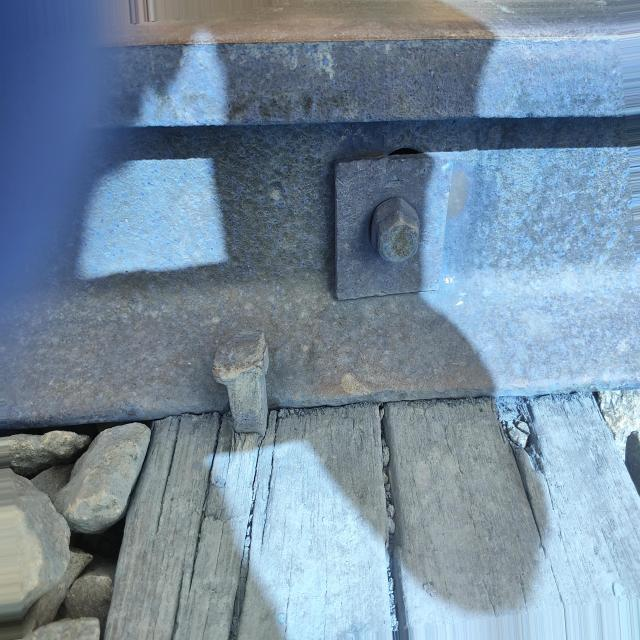Good Fasteners: (212, 330, 269, 434)
